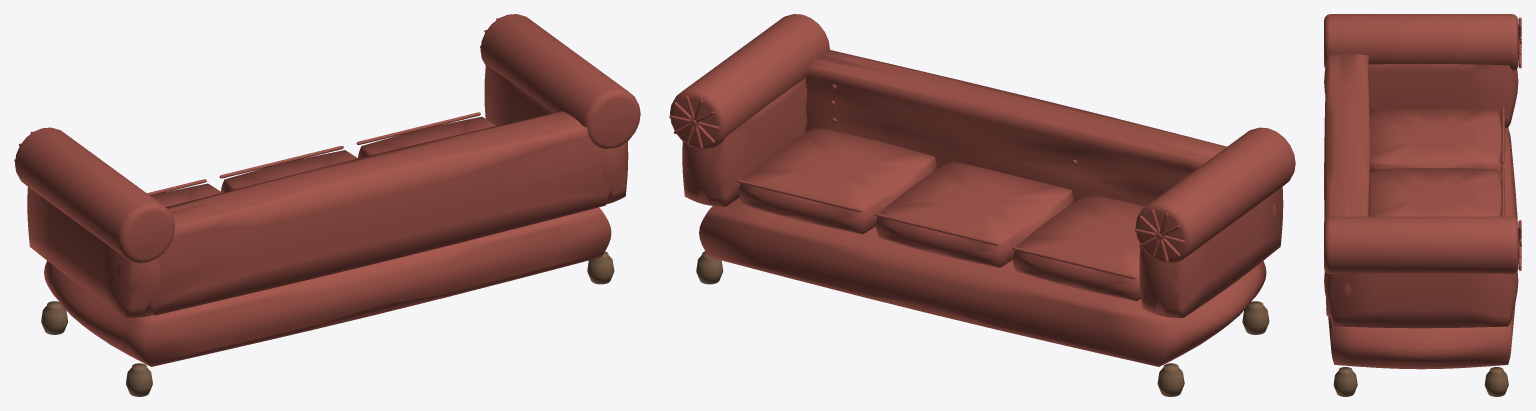
The model's file is chesterfield_24.glb.
3 views of the same model, side by side, from view 1: azimuth 30°, elevation 25°; view 2: azimuth 150°, elevation 25°; view 3: azimuth 270°, elevation 25° (orthographic). The views are drawn at different scales.
Visible parts, largest first — view 1: chesterfield_24; view 2: chesterfield_24; view 3: chesterfield_24.
Part boxes in pixels (box(x1,y1,x2,y2)): chesterfield_24: box(14, 14, 640, 396); chesterfield_24: box(669, 14, 1295, 396); chesterfield_24: box(1324, 14, 1521, 396).
Size of the model in its own units: 2.49 by 0.895 by 0.9166.
